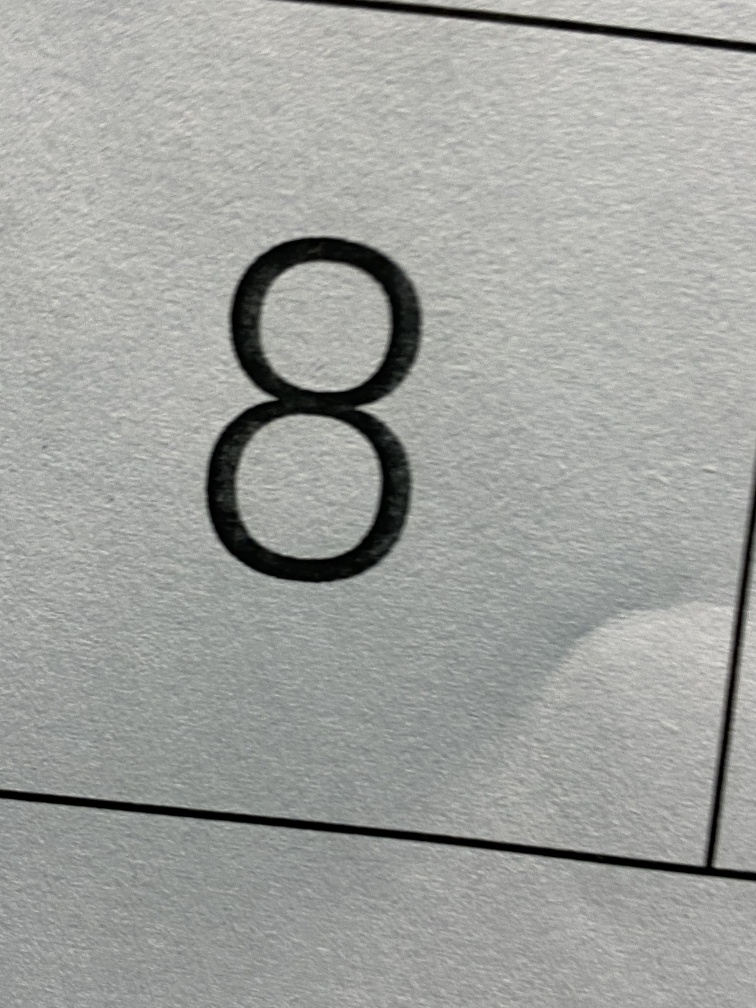eight: (114, 171, 499, 664)
